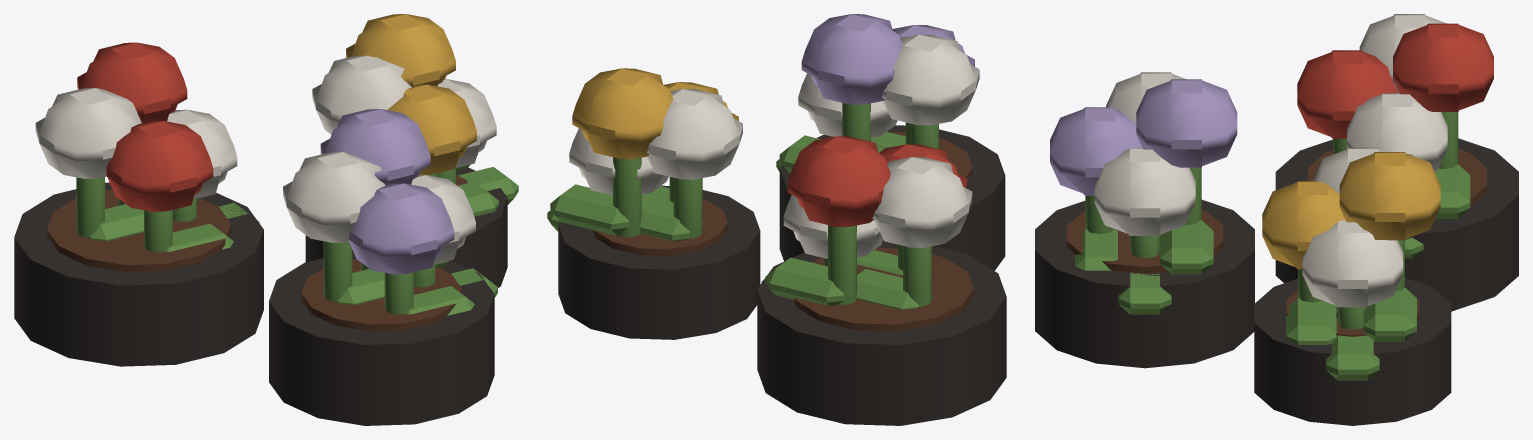
File: tyre_planters.glb
The picture shows the model from 3 angles, left to right: view 1: azimuth 30°, elevation 25°; view 2: azimuth 150°, elevation 25°; view 3: azimuth 270°, elevation 25°; orthographic projection.
Visible parts, largest first — view 1: body; view 2: body; view 3: body.
Part boxes in pixels (bbox=[...]): body: bbox=[14, 14, 518, 425]; body: bbox=[547, 14, 1006, 425]; body: bbox=[1035, 14, 1518, 425].
Size of the model in its own units: 1.78 by 0.896 by 1.63.
